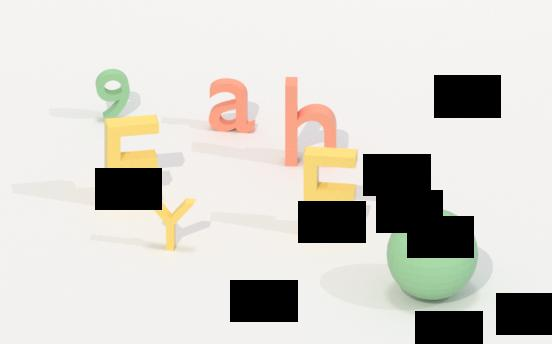9: (91, 66, 132, 127)
E-hoa: (300, 142, 363, 248), (102, 112, 162, 217)
Y-hoa: (145, 192, 198, 260)
a: (208, 71, 256, 137)
cau: (383, 203, 483, 304)
h: (282, 73, 341, 172)
